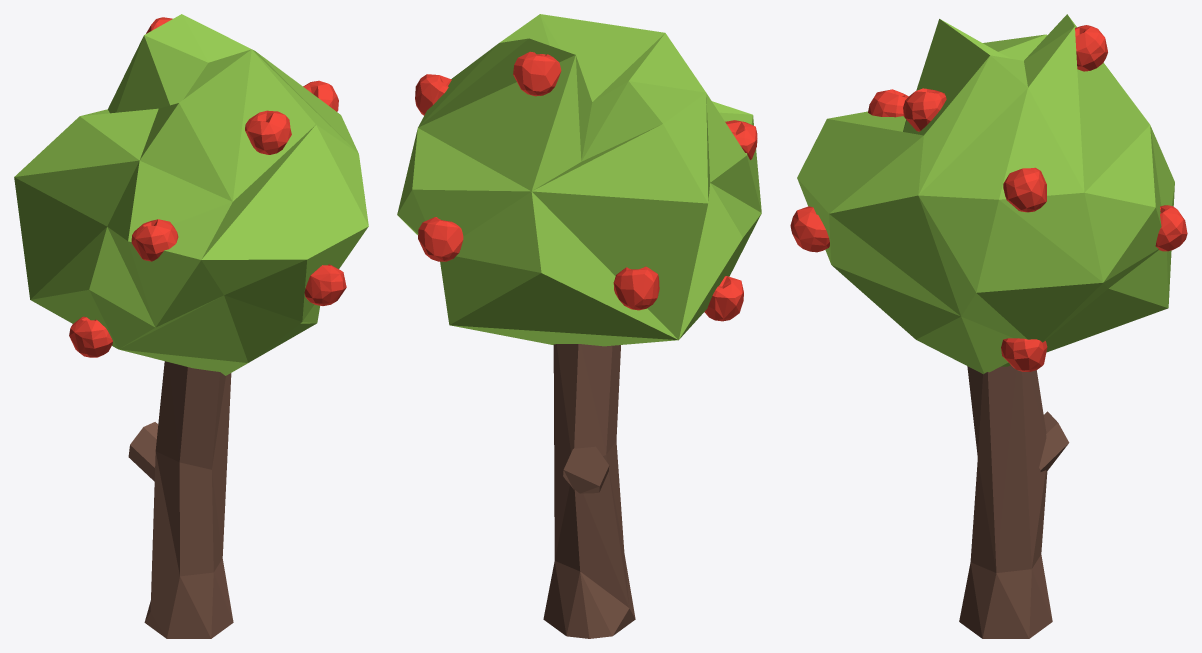
The model's file is apple2.glb.
3 views of the same model, side by side, from view 1: azimuth 30°, elevation 25°; view 2: azimuth 150°, elevation 25°; view 3: azimuth 270°, elevation 25° (orthographic). The views are drawn at different scales.
Visible parts, largest first — view 1: Node; view 2: Node; view 3: Node.
Boxes of the visible parts, x1=… form: Node: x1=14, y1=14, x2=368, y2=638; Node: x1=397, y1=14, x2=761, y2=638; Node: x1=790, y1=14, x2=1187, y2=638.
Bounding box in the file's own units: 0.1594 × 0.2868 × 0.1696.
